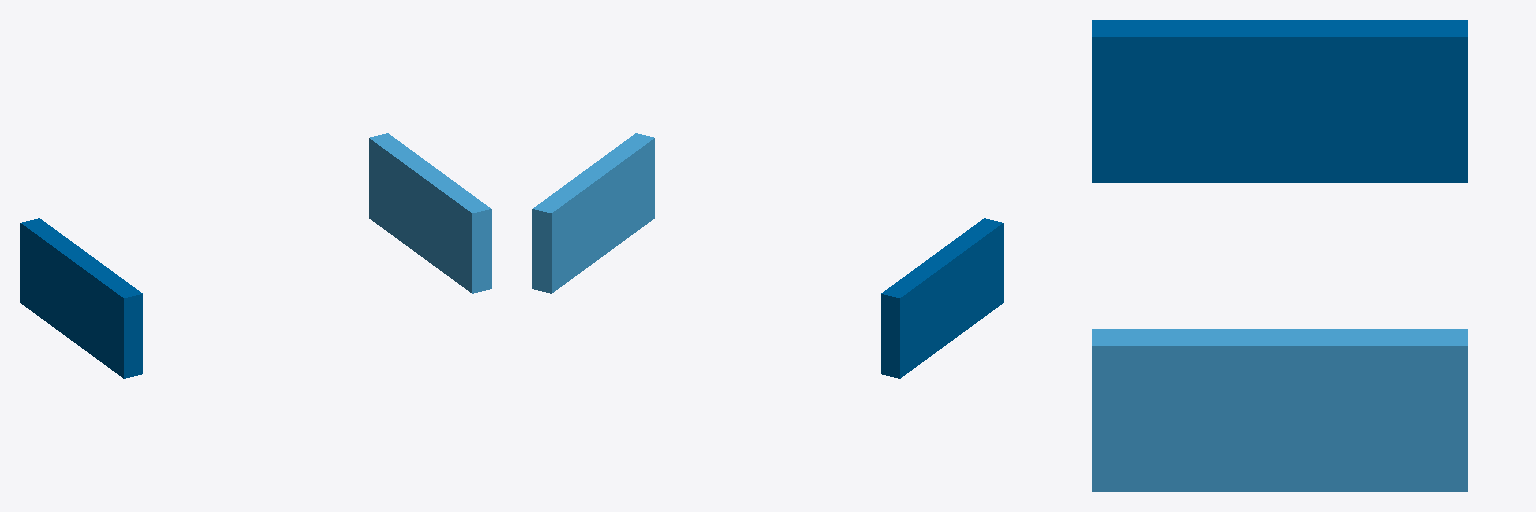
The robot description file, URDF, robot "gbt-c12a":
<?xml version="1.0" encoding="UTF-8"?>
<robot name="gbt-c12a">
  <joint name="AssemblerFixedJoint" type="fixed">
    <origin xyz="0. 0. -0." rpy="0. 0.0000002 1.5707964"/>
    <parent link="GBT_C12A_link6"/>
    <child link="ee_link_robotiq_arg2f_base_link"/>
  </joint>
  <joint name="finger_joint" type="revolute">
    <origin xyz="0. -0.030601 0.054905" rpy="-2.2957964 0. -3.1415927"/>
    <parent link="ee_link_robotiq_arg2f_base_link"/>
    <child link="left_outer_knuckle"/>
    <axis xyz="1. 0. 0."/>
    <limit lower="0." upper="0.7" effort="200." velocity="1.9999999"/>
  </joint>
  <joint name="joint1" type="revolute">
    <origin xyz="0. 0. 0.196" rpy="0. 0. 0."/>
    <parent link="GBT_C12A_base_link"/>
    <child link="GBT_C12A_link1"/>
    <axis xyz="0. 0. 1."/>
    <limit lower="-6.2831853" upper="6.2831853" effort="100." velocity="0.9999999"/>
  </joint>
  <joint name="joint2" type="revolute">
    <origin xyz="0. 0.184 0. " rpy="1.5707964 0. 0. "/>
    <parent link="GBT_C12A_link1"/>
    <child link="GBT_C12A_link2"/>
    <axis xyz="0. 0. 1."/>
    <limit lower="-1.4835297" upper="4.6251225" effort="100." velocity="0.9999999"/>
  </joint>
  <joint name="joint3" type="revolute">
    <origin xyz="0.6125 -0. 0.148 " rpy="0. 0. 0."/>
    <parent link="GBT_C12A_link2"/>
    <child link="GBT_C12A_link3"/>
    <axis xyz="0. 0. 1."/>
    <limit lower="-2.879793" upper="2.879793" effort="100." velocity="0.9999999"/>
  </joint>
  <joint name="joint4" type="revolute">
    <origin xyz="0.5605 -0. -0.1308" rpy="0. 0. 0."/>
    <parent link="GBT_C12A_link3"/>
    <child link="GBT_C12A_link4"/>
    <axis xyz="0. 0. 1."/>
    <limit lower="-1.4835297" upper="4.6251225" effort="100." velocity="0.9999999"/>
  </joint>
  <joint name="joint5" type="revolute">
    <origin xyz="-0.0000001 -0.1308 0. " rpy="1.5707964 0. 0. "/>
    <parent link="GBT_C12A_link4"/>
    <child link="GBT_C12A_link5"/>
    <axis xyz="0. 0. 1."/>
    <limit lower="-6.2831853" upper="6.2831853" effort="100." velocity="0.9999999"/>
  </joint>
  <joint name="joint6" type="revolute">
    <origin xyz="0. -0.1163 0. " rpy="1.5707963 0. 0. "/>
    <parent link="GBT_C12A_link5"/>
    <child link="GBT_C12A_link6"/>
    <axis xyz="0. 0. 1."/>
    <limit lower="-6.2831853" upper="6.2831853" effort="100." velocity="0.9999999"/>
  </joint>
  <joint name="left_inner_finger_joint" type="revolute">
    <origin xyz="0. -0.0999754 -0.0022185" rpy="-0.725 0. 3.1415927"/>
    <parent link="left_outer_knuckle"/>
    <child link="left_inner_finger"/>
    <axis xyz="1. 0. 0."/>
    <limit lower="-0.14" upper="0.84" effort="0." velocity="17453.2925199"/>
  </joint>
  <joint name="left_inner_knuckle_joint" type="revolute">
    <origin xyz="0. -0.0127 0.06142" rpy="2.2957964 0. 0. "/>
    <parent link="ee_link_robotiq_arg2f_base_link"/>
    <child link="left_inner_knuckle"/>
    <axis xyz="1. 0. 0."/>
    <limit lower="-0.84" upper="0.14" effort="0." velocity="17453.2925199"/>
  </joint>
  <joint name="right_inner_finger_joint" type="revolute">
    <origin xyz="0. 0.0999754 -0.0022185" rpy="-0.725 0. 0. "/>
    <parent link="right_outer_knuckle"/>
    <child link="right_inner_finger"/>
    <axis xyz="1. 0. 0."/>
    <limit lower="-0.14" upper="0.84" effort="0." velocity="17453.2925199"/>
  </joint>
  <joint name="right_inner_knuckle_joint" type="revolute">
    <origin xyz="0. 0.0127 0.06142" rpy="2.2957964 0. 3.1415925"/>
    <parent link="ee_link_robotiq_arg2f_base_link"/>
    <child link="right_inner_knuckle"/>
    <axis xyz="1. 0. 0."/>
    <limit lower="-0.84" upper="0.14" effort="0." velocity="17453.2925199"/>
  </joint>
  <joint name="right_outer_knuckle_joint" type="revolute">
    <origin xyz="0. 0.030601 0.054905" rpy="2.2957964 0. -3.1415925"/>
    <parent link="ee_link_robotiq_arg2f_base_link"/>
    <child link="right_outer_knuckle"/>
    <axis xyz="1. 0. 0."/>
    <limit lower="-0.84" upper="0.14" effort="0." velocity="17453.2925199"/>
  </joint>
  <joint name="root_joint" type="fixed">
    <origin xyz="0. 0. 0." rpy="0. 0. 0."/>
    <parent link="GBT_C12A"/>
    <child link="GBT_C12A_base_link"/>
  </joint>
  <link name="GBT_C12A"/>
  <link name="GBT_C12A_base_link">
    <inertial>
      <origin xyz="0.0000013 -0.0061641 0.051682 " rpy="0. 0. 0."/>
      <mass value="13.842"/>
      <inertia ixx="0.040221" ixy="0.0000133" ixz="-0.0000008" iyy="0.032081" iyz="0.0005899" izz="0.059352"/>
    </inertial>
    <visual>
      <origin xyz="0. 0. 0." rpy="0. 0. 0."/>
      <geometry>
        <mesh filename="./meshes/GBT_C12A_base_link_visuals_base_link_mesh.obj" scale="1. 1. 1."/>
      </geometry>
    </visual>
    <visual>
      <origin xyz="0. 0. 0." rpy="0. 0. 0."/>
      <geometry>
        <mesh filename="./meshes/GBT_C12A_base_link_collisions_base_link_mesh.obj" scale="1. 1. 1."/>
      </geometry>
    </visual>
    <collision>
      <origin xyz="0. 0. 0." rpy="0. 0. 0."/>
      <geometry>
        <mesh filename="./meshes/GBT_C12A_base_link_collisions_base_link_mesh.obj" scale="1. 1. 1."/>
      </geometry>
    </collision>
  </link>
  <link name="GBT_C12A_link1">
    <inertial>
      <origin xyz="-0.0000471 0.0057889 0.10293 " rpy="0. 0. 0."/>
      <mass value="31.1499996"/>
      <inertia ixx="0.15484" ixy="0.0000576" ixz="0.0000001" iyy="0.14949" iyz="0.0001218" izz="0.097986"/>
    </inertial>
    <visual>
      <origin xyz="0. 0. 0." rpy="0. 0. 0."/>
      <geometry>
        <mesh filename="./meshes/GBT_C12A_link1_visuals_link1_mesh.obj" scale="1. 1. 1."/>
      </geometry>
    </visual>
    <visual>
      <origin xyz="0. 0. 0." rpy="0. 0. 0."/>
      <geometry>
        <mesh filename="./meshes/GBT_C12A_link1_collisions_link1_mesh.obj" scale="1. 1. 1."/>
      </geometry>
    </visual>
    <collision>
      <origin xyz="0. 0. 0." rpy="0. 0. 0."/>
      <geometry>
        <mesh filename="./meshes/GBT_C12A_link1_collisions_link1_mesh.obj" scale="1. 1. 1."/>
      </geometry>
    </collision>
  </link>
  <link name="GBT_C12A_link2">
    <inertial>
      <origin xyz="0.25627 0.0000115 0.10281 " rpy="0. 0. 0."/>
      <mass value="88.7559967"/>
      <inertia ixx="0.27835" ixy="0.0004823" ixz="-0.0077364" iyy="5.0985994" iyz="0.0000306" izz="5.0183995"/>
    </inertial>
    <visual>
      <origin xyz="0. 0. 0." rpy="0. 0. 0."/>
      <geometry>
        <mesh filename="./meshes/GBT_C12A_link2_visuals_link2_mesh.obj" scale="1. 1. 1."/>
      </geometry>
    </visual>
    <visual>
      <origin xyz="0. 0. 0." rpy="0. 0. 0."/>
      <geometry>
        <mesh filename="./meshes/GBT_C12A_link2_collisions_link2_mesh.obj" scale="1. 1. 1."/>
      </geometry>
    </visual>
    <collision>
      <origin xyz="0. 0. 0." rpy="0. 0. 0."/>
      <geometry>
        <mesh filename="./meshes/GBT_C12A_link2_collisions_link2_mesh.obj" scale="1. 1. 1."/>
      </geometry>
    </collision>
  </link>
  <link name="GBT_C12A_link3">
    <inertial>
      <origin xyz="-0.27117 0.0000034 0.061195 " rpy="0. 0. 0."/>
      <mass value="40.5970001"/>
      <inertia ixx="0.060991" ixy="0.0000261" ixz="0.031846" iyy="1.7475001" iyz="-0.000003" izz="1.7362998"/>
    </inertial>
    <visual>
      <origin xyz="-0.0000001 -0. -0. " rpy="0. 0. 0."/>
      <geometry>
        <mesh filename="./meshes/GBT_C12A_link3_visuals_link3_mesh.obj" scale="1. 1. 1."/>
      </geometry>
    </visual>
    <visual>
      <origin xyz="-0.0000001 -0. -0. " rpy="0. 0. 0."/>
      <geometry>
        <mesh filename="./meshes/GBT_C12A_link3_collisions_link3_mesh.obj" scale="1. 1. 1."/>
      </geometry>
    </visual>
    <collision>
      <origin xyz="-0.0000001 -0. -0. " rpy="0. 0. 0."/>
      <geometry>
        <mesh filename="./meshes/GBT_C12A_link3_collisions_link3_mesh.obj" scale="1. 1. 1."/>
      </geometry>
    </collision>
  </link>
  <link name="GBT_C12A_link4">
    <inertial>
      <origin xyz="0.0000065 0.0000285 0.051524 " rpy="0. 0. 0."/>
      <mass value="8.3136997"/>
      <inertia ixx="0.019136" ixy="0.0000002" ixz="0.0000003" iyy="0.010018" iyz="-0.0000112" izz="0.017943"/>
    </inertial>
    <visual>
      <origin xyz="-0.0000001 0. 0. " rpy="0. 0. 0."/>
      <geometry>
        <mesh filename="./meshes/GBT_C12A_link4_visuals_link4_mesh.obj" scale="1. 1. 1."/>
      </geometry>
    </visual>
    <visual>
      <origin xyz="-0.0000001 0. 0. " rpy="0. 0. 0."/>
      <geometry>
        <mesh filename="./meshes/GBT_C12A_link4_collisions_link4_mesh.obj" scale="1. 1. 1."/>
      </geometry>
    </visual>
    <collision>
      <origin xyz="-0.0000001 0. 0. " rpy="0. 0. 0."/>
      <geometry>
        <mesh filename="./meshes/GBT_C12A_link4_collisions_link4_mesh.obj" scale="1. 1. 1."/>
      </geometry>
    </collision>
  </link>
  <link name="GBT_C12A_link5">
    <inertial>
      <origin xyz="-0.0000069 -0.0000031 -0.051525 " rpy="0. 0. 0."/>
      <mass value="8.316"/>
      <inertia ixx="0.019157" ixy="-0.0000003" ixz="0.0000004" iyy="0.010013" iyz="0.0000091" izz="0.017964"/>
    </inertial>
    <visual>
      <origin xyz="0. -0. 0." rpy="-0. 0. 0."/>
      <geometry>
        <mesh filename="./meshes/GBT_C12A_link5_visuals_link5_mesh.obj" scale="1. 1. 1."/>
      </geometry>
    </visual>
    <visual>
      <origin xyz="0. -0. 0." rpy="-0. 0. 0."/>
      <geometry>
        <mesh filename="./meshes/GBT_C12A_link5_collisions_link5_mesh.obj" scale="1. 1. 1."/>
      </geometry>
    </visual>
    <collision>
      <origin xyz="0. -0. 0." rpy="-0. 0. 0."/>
      <geometry>
        <mesh filename="./meshes/GBT_C12A_link5_collisions_link5_mesh.obj" scale="1. 1. 1."/>
      </geometry>
    </collision>
  </link>
  <link name="GBT_C12A_link6">
    <inertial>
      <origin xyz="0. 0.0001342 0.018933 " rpy="0. 0. 0."/>
      <mass value="1.9242001"/>
      <inertia ixx="0.0012043" ixy="0." ixz="0." iyy="0.0012178" iyz="0.0000012" izz="0.0019174"/>
    </inertial>
    <visual>
      <origin xyz="0. 0. -0." rpy="-0.0000002 0. 0. "/>
      <geometry>
        <mesh filename="./meshes/GBT_C12A_link6_visuals_link6_mesh.obj" scale="1. 1. 1."/>
      </geometry>
    </visual>
    <visual>
      <origin xyz="0. 0. -0." rpy="-0.0000002 0. 0. "/>
      <geometry>
        <mesh filename="./meshes/GBT_C12A_link6_collisions_link6_mesh.obj" scale="1. 1. 1."/>
      </geometry>
    </visual>
    <collision>
      <origin xyz="0. 0. -0." rpy="-0.0000002 0. 0. "/>
      <geometry>
        <mesh filename="./meshes/GBT_C12A_link6_collisions_link6_mesh.obj" scale="1. 1. 1."/>
      </geometry>
    </collision>
  </link>
  <link name="ee_link_robotiq_arg2f_base_link">
    <inertial>
      <origin xyz="0.0000001 -0.0000047 0.03145 " rpy="0. 0. 0."/>
      <mass value="0.22652"/>
      <inertia ixx="0.0002" ixy="-0." ixz="-0." iyy="0.0001783" iyz="-0." izz="0.0001348"/>
    </inertial>
    <visual>
      <origin xyz="0. 0. 0." rpy="0. 0. 0."/>
      <geometry>
        <mesh filename="./meshes/ee_link_robotiq_arg2f_base_link_visuals_robotiq_arg2f_base_link_mesh.obj" scale="1. 1. 1."/>
      </geometry>
    </visual>
    <visual>
      <origin xyz="0. 0. 0." rpy="0. 0. 0."/>
      <geometry>
        <mesh filename="./meshes/ee_link_robotiq_arg2f_base_link_collisions_robotiq_arg2f_base_link_mesh.obj" scale="1. 1. 1."/>
      </geometry>
    </visual>
    <collision>
      <origin xyz="0. 0. 0." rpy="0. 0. 0."/>
      <geometry>
        <mesh filename="./meshes/ee_link_robotiq_arg2f_base_link_collisions_robotiq_arg2f_base_link_mesh.obj" scale="1. 1. 1."/>
      </geometry>
    </collision>
  </link>
  <link name="left_inner_finger">
    <inertial>
      <origin xyz="0.0003 0.0160078 -0.0136946" rpy="0. 0. 0."/>
      <mass value="0.0104003"/>
      <inertia ixx="0.0000027" ixy="0." ixz="0." iyy="0.0000008" iyz="0.0000007" izz="0.0000023"/>
    </inertial>
    <visual>
      <origin xyz="0. -0. 0." rpy="-0. 0. 0."/>
      <geometry>
        <mesh filename="./meshes/left_inner_finger_visuals_robotiq_arg2f_140_inner_finger_mesh.obj" scale="1. 1. 1."/>
      </geometry>
    </visual>
    <visual>
      <origin xyz="0. 0.0457554 -0.0272203" rpy="-0. 0. 0."/>
      <geometry>
        <box size="0.027 0.065 0.0075"/>
      </geometry>
    </visual>
    <visual>
      <origin xyz="0. -0. 0." rpy="-0. 0. 0."/>
      <geometry>
        <mesh filename="./meshes/left_inner_finger_collisions_robotiq_arg2f_140_inner_finger_mesh.obj" scale="1. 1. 1."/>
      </geometry>
    </visual>
    <visual>
      <origin xyz="0. 0.0457554 -0.0272203" rpy="-0. 0. 0."/>
      <geometry>
        <box size="0.03 0.07 0.0075"/>
      </geometry>
    </visual>
    <collision>
      <origin xyz="0. -0. 0." rpy="-0. 0. 0."/>
      <geometry>
        <mesh filename="./meshes/left_inner_finger_collisions_robotiq_arg2f_140_inner_finger_mesh.obj" scale="1. 1. 1."/>
      </geometry>
    </collision>
    <collision>
      <origin xyz="0. 0.0457554 -0.0272203" rpy="-0. 0. 0."/>
      <geometry>
        <box size="0.03 0.07 0.0075"/>
      </geometry>
    </collision>
  </link>
  <link name="left_inner_knuckle">
    <inertial>
      <origin xyz="0.000123 0.0507851 0.0010397" rpy="0. 0. 0."/>
      <mass value="0.0271177"/>
      <inertia ixx="0.0000262" ixy="-0.0000002" ixz="-0." iyy="0.0000028" iyz="-0.0000005" izz="0.0000284"/>
    </inertial>
    <visual>
      <origin xyz="0. 0. 0." rpy="-0. 0. 0."/>
      <geometry>
        <mesh filename="./meshes/left_inner_knuckle_visuals_robotiq_arg2f_140_inner_knuckle_mesh.obj" scale="1. 1. 1."/>
      </geometry>
    </visual>
    <visual>
      <origin xyz="0. 0. 0." rpy="-0. 0. 0."/>
      <geometry>
        <mesh filename="./meshes/left_inner_knuckle_collisions_robotiq_arg2f_140_inner_knuckle_mesh.obj" scale="1. 1. 1."/>
      </geometry>
    </visual>
    <collision>
      <origin xyz="0. 0. 0." rpy="-0. 0. 0."/>
      <geometry>
        <mesh filename="./meshes/left_inner_knuckle_collisions_robotiq_arg2f_140_inner_knuckle_mesh.obj" scale="1. 1. 1."/>
      </geometry>
    </collision>
  </link>
  <link name="left_outer_knuckle">
    <inertial>
      <origin xyz="0.0001639 0.0458404 0.0117804" rpy="0. 0. 0."/>
      <mass value="0.0311462"/>
      <inertia ixx="0.0000296" ixy="-0.0000001" ixz="0.0000001" iyy="0.0000116" iyz="0.0000109" izz="0.0000208"/>
    </inertial>
    <visual>
      <origin xyz="0. 0. 0." rpy="-0. 0. 3.1415927"/>
      <geometry>
        <mesh filename="./meshes/left_outer_knuckle_visuals_robotiq_arg2f_140_outer_knuckle_mesh.obj" scale="1. 1. 1."/>
      </geometry>
    </visual>
    <visual>
      <origin xyz="0. -0.01822 0.0260018" rpy="-0. 0. 3.1415927"/>
      <geometry>
        <mesh filename="./meshes/left_outer_knuckle_visuals_robotiq_arg2f_140_outer_finger_mesh.obj" scale="1. 1. 1."/>
      </geometry>
    </visual>
    <visual>
      <origin xyz="0. 0. 0." rpy="-0. 0. 3.1415927"/>
      <geometry>
        <mesh filename="./meshes/left_outer_knuckle_collisions_robotiq_arg2f_140_outer_knuckle_mesh.obj" scale="1. 1. 1."/>
      </geometry>
    </visual>
    <visual>
      <origin xyz="0. -0.01822 0.0260018" rpy="-0. 0. 3.1415927"/>
      <geometry>
        <mesh filename="./meshes/left_outer_knuckle_collisions_robotiq_arg2f_140_outer_finger_mesh.obj" scale="1. 1. 1."/>
      </geometry>
    </visual>
    <collision>
      <origin xyz="0. 0. 0." rpy="-0. 0. 3.1415927"/>
      <geometry>
        <mesh filename="./meshes/left_outer_knuckle_collisions_robotiq_arg2f_140_outer_knuckle_mesh.obj" scale="1. 1. 1."/>
      </geometry>
    </collision>
    <collision>
      <origin xyz="0. -0.01822 0.0260018" rpy="-0. 0. 3.1415927"/>
      <geometry>
        <mesh filename="./meshes/left_outer_knuckle_collisions_robotiq_arg2f_140_outer_finger_mesh.obj" scale="1. 1. 1."/>
      </geometry>
    </collision>
  </link>
  <link name="right_inner_finger">
    <inertial>
      <origin xyz="0.0003 0.0160078 -0.0136946" rpy="0. 0. 0."/>
      <mass value="0.0104003"/>
      <inertia ixx="0.0000027" ixy="0." ixz="0." iyy="0.0000008" iyz="0.0000007" izz="0.0000023"/>
    </inertial>
    <visual>
      <origin xyz="0. 0. 0." rpy="0. 0. 0."/>
      <geometry>
        <mesh filename="./meshes/right_inner_finger_visuals_robotiq_arg2f_140_inner_finger_mesh.obj" scale="1. 1. 1."/>
      </geometry>
    </visual>
    <visual>
      <origin xyz="0. 0.0457554 -0.0272203" rpy="0. 0. 0."/>
      <geometry>
        <box size="0.027 0.065 0.0075"/>
      </geometry>
    </visual>
    <visual>
      <origin xyz="0. 0. 0." rpy="0. 0. 0."/>
      <geometry>
        <mesh filename="./meshes/right_inner_finger_collisions_robotiq_arg2f_140_inner_finger_mesh.obj" scale="1. 1. 1."/>
      </geometry>
    </visual>
    <visual>
      <origin xyz="0. 0.0457554 -0.0272203" rpy="0. 0. 0."/>
      <geometry>
        <box size="0.03 0.07 0.0075"/>
      </geometry>
    </visual>
    <collision>
      <origin xyz="0. 0. 0." rpy="0. 0. 0."/>
      <geometry>
        <mesh filename="./meshes/right_inner_finger_collisions_robotiq_arg2f_140_inner_finger_mesh.obj" scale="1. 1. 1."/>
      </geometry>
    </collision>
    <collision>
      <origin xyz="0. 0.0457554 -0.0272203" rpy="0. 0. 0."/>
      <geometry>
        <box size="0.03 0.07 0.0075"/>
      </geometry>
    </collision>
  </link>
  <link name="right_inner_knuckle">
    <inertial>
      <origin xyz="0.000123 0.0507851 0.0010397" rpy="0. 0. 0."/>
      <mass value="0.0271177"/>
      <inertia ixx="0.0000262" ixy="-0.0000002" ixz="-0." iyy="0.0000028" iyz="-0.0000005" izz="0.0000284"/>
    </inertial>
    <visual>
      <origin xyz="0. 0. 0." rpy="0. 0. 0."/>
      <geometry>
        <mesh filename="./meshes/right_inner_knuckle_visuals_robotiq_arg2f_140_inner_knuckle_mesh.obj" scale="1. 1. 1."/>
      </geometry>
    </visual>
    <visual>
      <origin xyz="0. 0. 0." rpy="0. 0. 0."/>
      <geometry>
        <mesh filename="./meshes/right_inner_knuckle_collisions_robotiq_arg2f_140_inner_knuckle_mesh.obj" scale="1. 1. 1."/>
      </geometry>
    </visual>
    <collision>
      <origin xyz="0. 0. 0." rpy="0. 0. 0."/>
      <geometry>
        <mesh filename="./meshes/right_inner_knuckle_collisions_robotiq_arg2f_140_inner_knuckle_mesh.obj" scale="1. 1. 1."/>
      </geometry>
    </collision>
  </link>
  <link name="right_outer_knuckle">
    <inertial>
      <origin xyz="0.0001639 0.0458404 0.0117804" rpy="0. 0. 0."/>
      <mass value="0.0311462"/>
      <inertia ixx="0.0000296" ixy="-0.0000001" ixz="0.0000001" iyy="0.0000116" iyz="0.0000109" izz="0.0000208"/>
    </inertial>
    <visual>
      <origin xyz="0. 0. 0." rpy="0. 0. 0."/>
      <geometry>
        <mesh filename="./meshes/right_outer_knuckle_visuals_robotiq_arg2f_140_outer_knuckle_mesh.obj" scale="1. 1. 1."/>
      </geometry>
    </visual>
    <visual>
      <origin xyz="0. 0.01822 0.0260018" rpy="0. 0. 0."/>
      <geometry>
        <mesh filename="./meshes/right_outer_knuckle_visuals_robotiq_arg2f_140_outer_finger_mesh.obj" scale="1. 1. 1."/>
      </geometry>
    </visual>
    <visual>
      <origin xyz="0. 0. 0." rpy="0. 0. 0."/>
      <geometry>
        <mesh filename="./meshes/right_outer_knuckle_collisions_robotiq_arg2f_140_outer_knuckle_mesh.obj" scale="1. 1. 1."/>
      </geometry>
    </visual>
    <visual>
      <origin xyz="0. 0.01822 0.0260018" rpy="0. 0. 0."/>
      <geometry>
        <mesh filename="./meshes/right_outer_knuckle_collisions_robotiq_arg2f_140_outer_finger_mesh.obj" scale="1. 1. 1."/>
      </geometry>
    </visual>
    <collision>
      <origin xyz="0. 0. 0." rpy="0. 0. 0."/>
      <geometry>
        <mesh filename="./meshes/right_outer_knuckle_collisions_robotiq_arg2f_140_outer_knuckle_mesh.obj" scale="1. 1. 1."/>
      </geometry>
    </collision>
    <collision>
      <origin xyz="0. 0.01822 0.0260018" rpy="0. 0. 0."/>
      <geometry>
        <mesh filename="./meshes/right_outer_knuckle_collisions_robotiq_arg2f_140_outer_finger_mesh.obj" scale="1. 1. 1."/>
      </geometry>
    </collision>
  </link>
</robot>

--- Facts derived from the render (not from the file) ---
Views: 3 orthographic renders of the robot side by side, from view 1: azimuth 30°, elevation 25°; view 2: azimuth 150°, elevation 25°; view 3: azimuth 270°, elevation 25°.
Model gbt-c12a with 15 links and 14 joints (12 revolute, 2 fixed), rooted at GBT_C12A, posed all joints at 0.
Links seen in each view (by area): view 1: left_inner_finger, right_inner_finger; view 2: left_inner_finger, right_inner_finger; view 3: left_inner_finger, right_inner_finger.
Boxes of the visible links, x1,y1,x2,y2 form: left_inner_finger: (369,133,491,293); right_inner_finger: (20,218,142,378); left_inner_finger: (532,133,654,293); right_inner_finger: (881,218,1003,378); left_inner_finger: (1092,329,1467,491); right_inner_finger: (1092,20,1467,182).
Bounding box of the posed robot: 0.1435 × 0.07 × 0.03 m (x, y, z).
0 mesh visuals loaded from 32 distinct referenced files (none loaded); not drawn: 32 (reference not matched to a file when rendering).